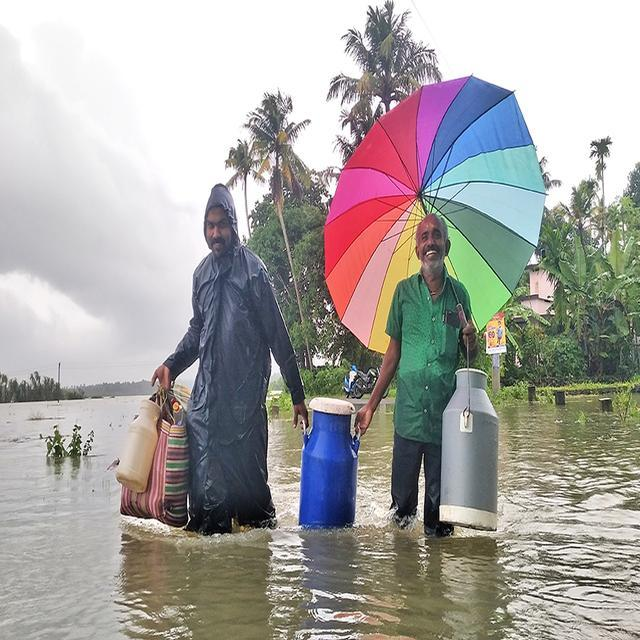Person-RiskLevel2: (159, 179, 312, 535), (356, 214, 482, 544)
